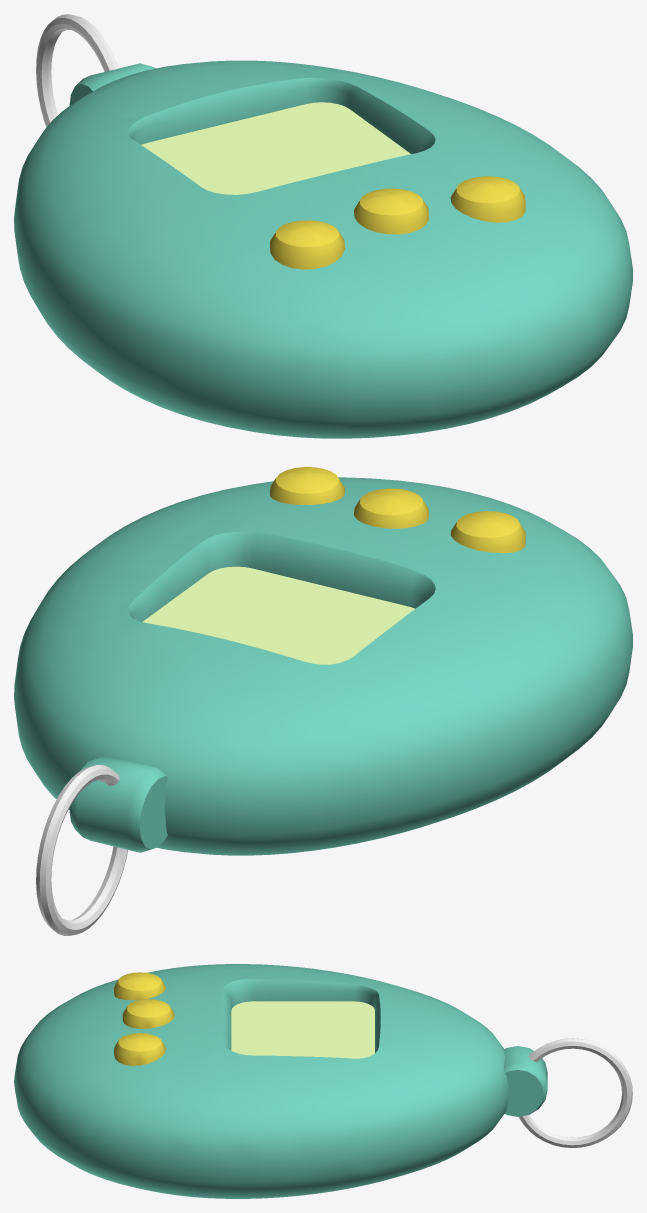
The model's file is SM_VirtualPet.glb.
3 renders of one model, top to bottom at view 1: azimuth 30°, elevation 25°; view 2: azimuth 150°, elevation 25°; view 3: azimuth 270°, elevation 25°, orthographic. The views are drawn at different scales.
Visible parts, largest first — view 1: SM_VirtualPet; view 2: SM_VirtualPet; view 3: SM_VirtualPet.
Boxes of the visible parts, x1,y1,x2,y2 form: SM_VirtualPet: (14,14,632,438); SM_VirtualPet: (14,467,632,935); SM_VirtualPet: (14,964,632,1198).
Bounding box in the file's own units: 0.0403 × 0.0161 × 0.062.
